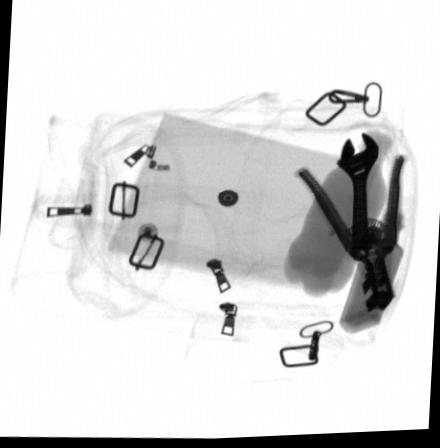Pliers: (292, 156, 406, 316)
Wrench: (334, 132, 380, 265)
